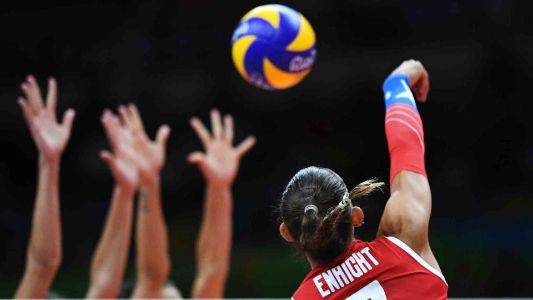voleibol: (231, 3, 317, 91)
